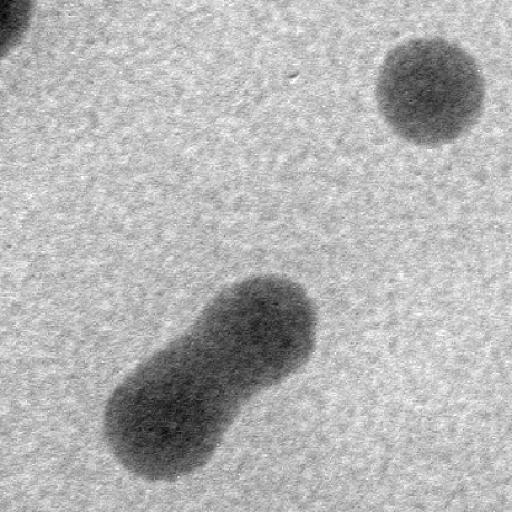Nanoparticles: (101, 343, 248, 480), (204, 262, 336, 382), (373, 36, 493, 148), (0, 0, 43, 63)
